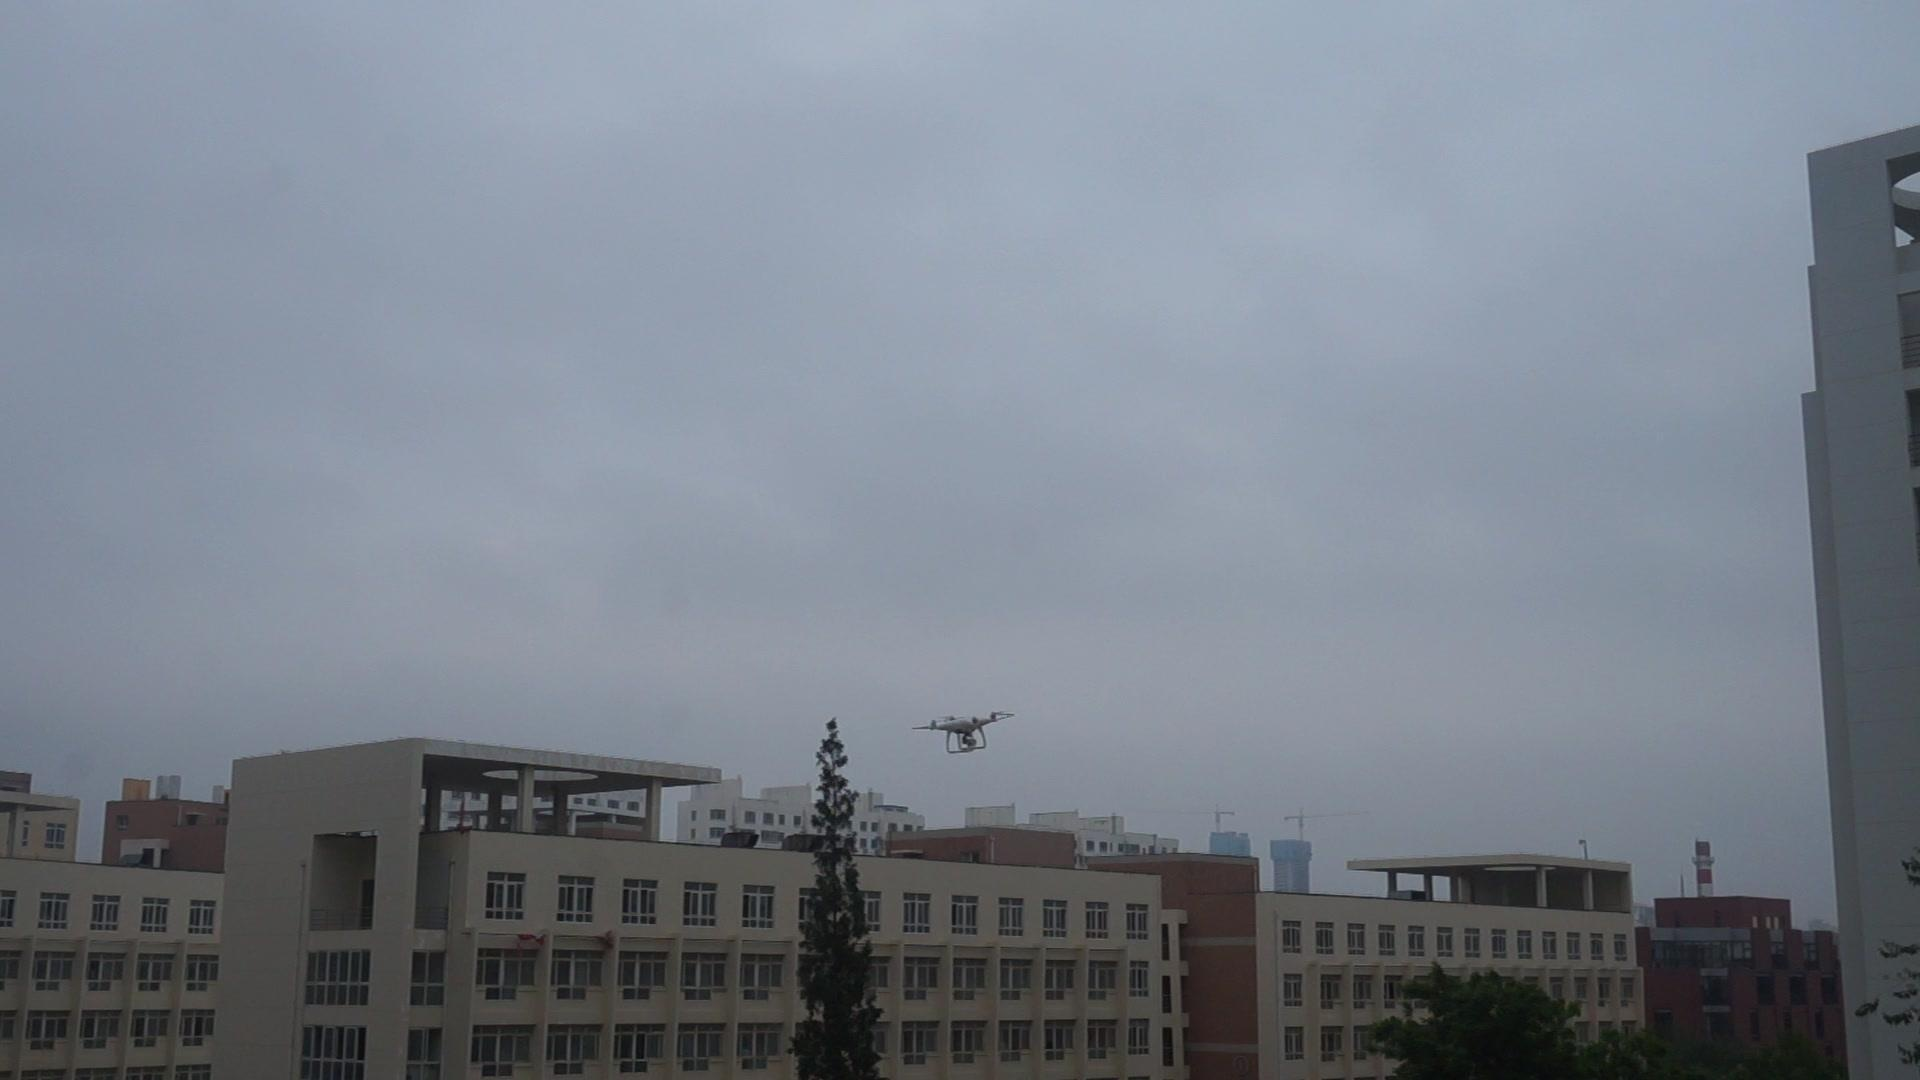UAV: (913, 711, 1017, 756)
